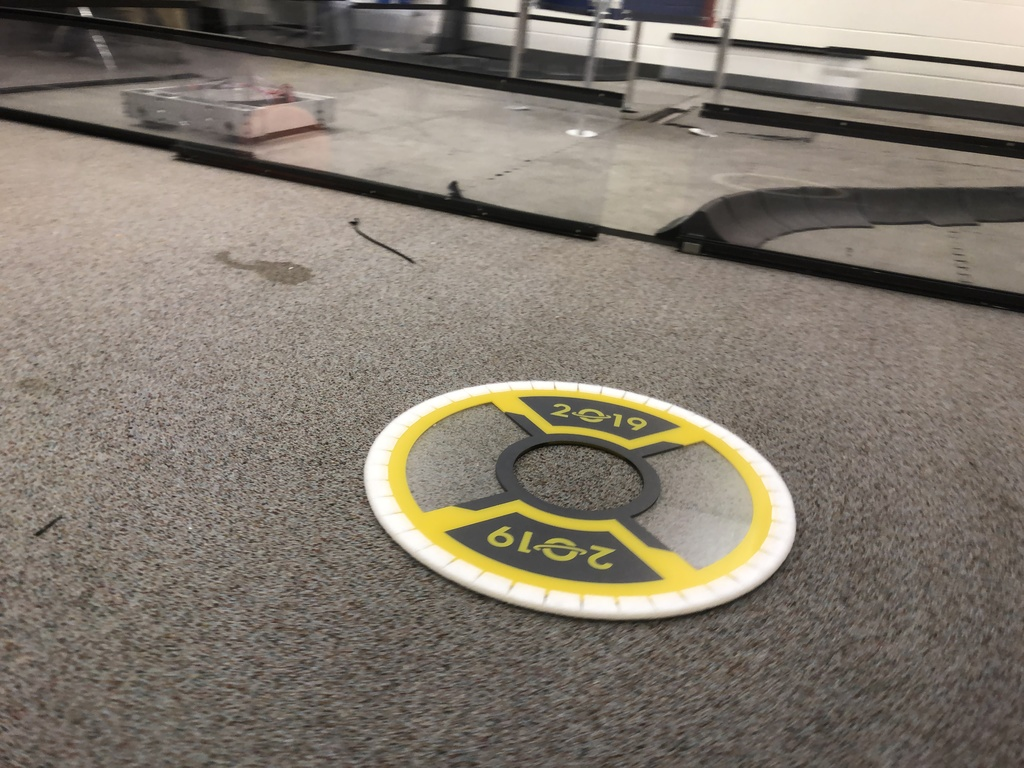hatch_panel: (358, 354, 813, 624)
